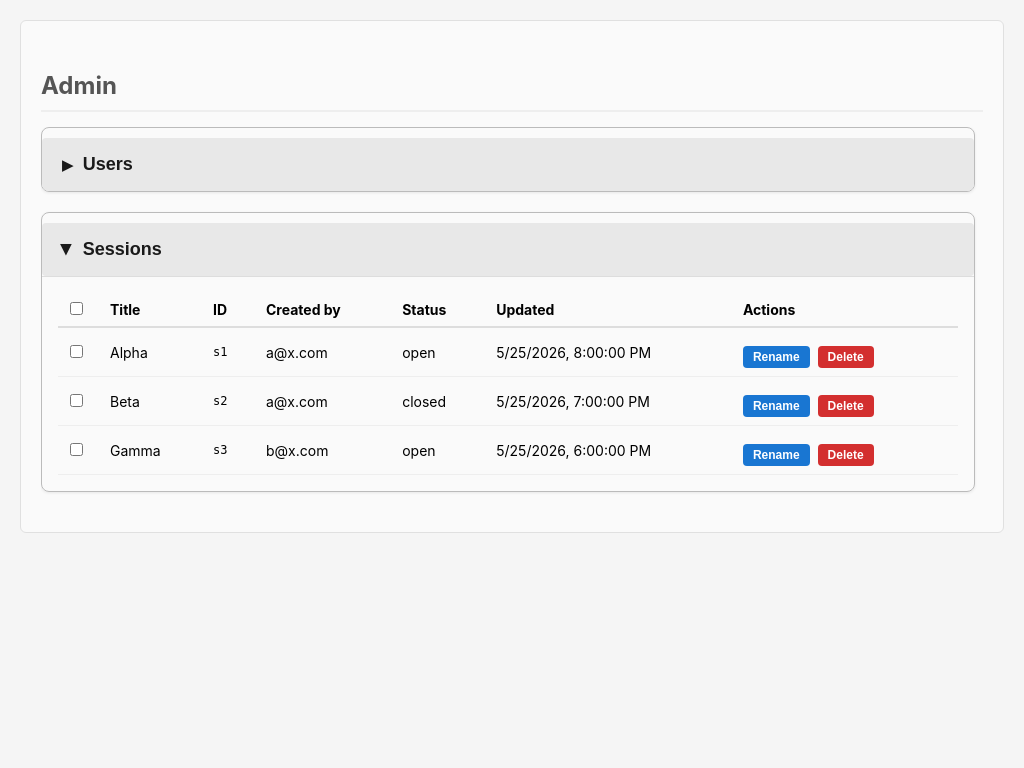
it: AdminUsers bulk session delete (SCRUM-583) › confirms, deletes selected sessions, removes rows and shows a success toast
This screenshot has width=1024, height=768.
Click the checkbox named "Select Alpha" at coordinates (76, 351), box x1=70 y1=344 x2=83 y2=358
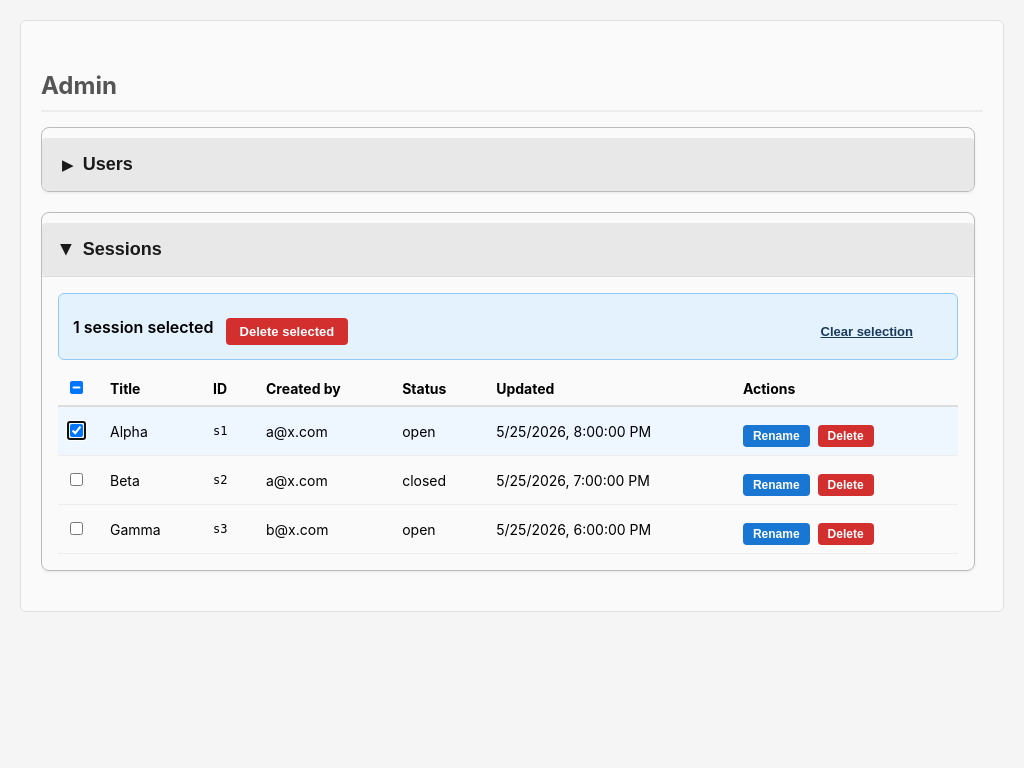
Click the checkbox named "Select Beta" at coordinates (76, 479), box x1=70 y1=472 x2=83 y2=486
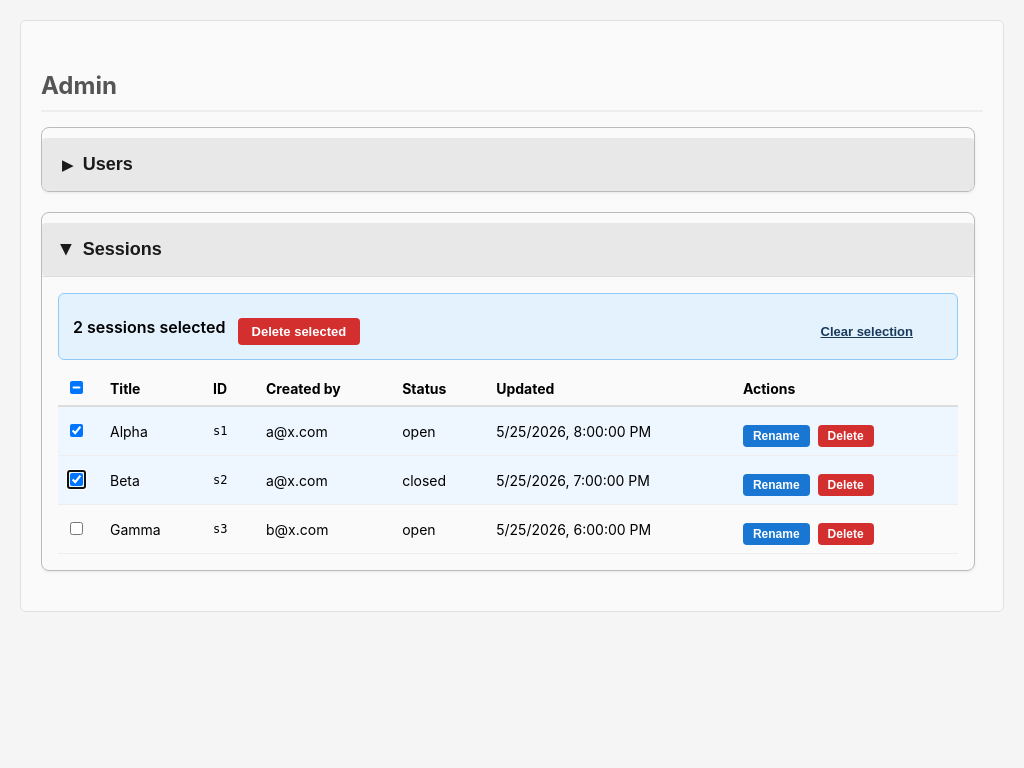
Click the button "Delete selected" at coordinates (299, 332), box x1=238 y1=318 x2=360 y2=345
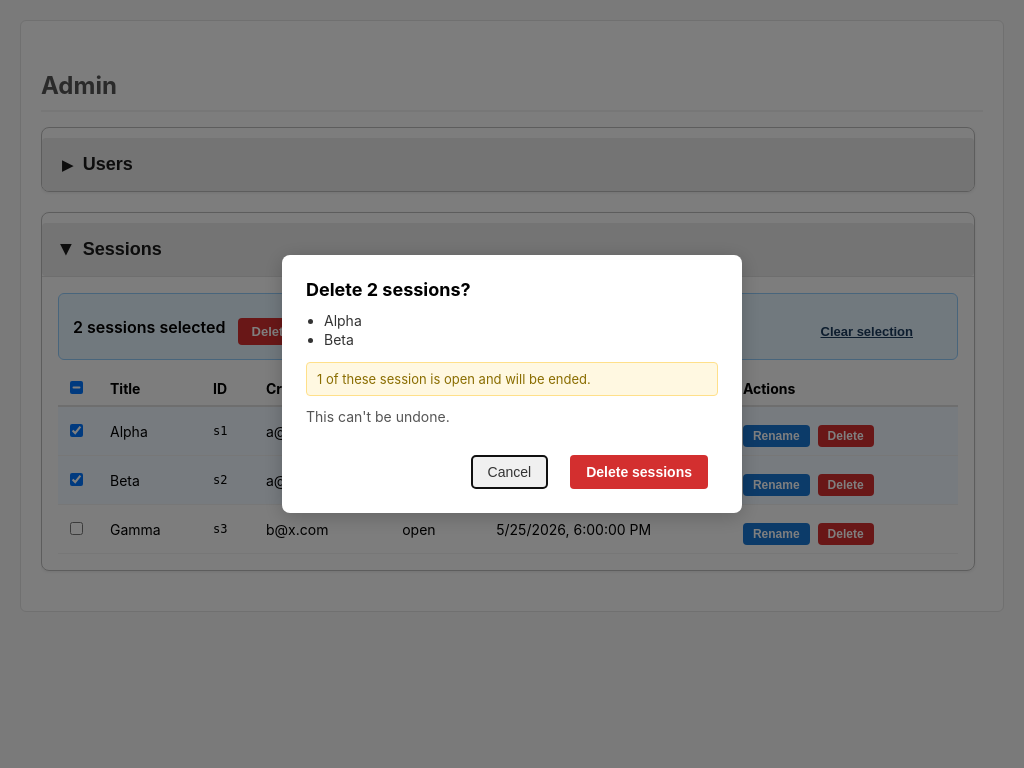
Expected: the heading "Delete 2 sessions?" is shown, x1=306 y1=279 x2=471 y2=300
Expected: the list item "Alpha" is shown, x1=324 y1=312 x2=362 y2=329
Expected: the text "1 of these session is open and will be ended." is shown, x1=306 y1=362 x2=718 y2=396
Click the button "Delete sessions" at coordinates (639, 472), box x1=570 y1=455 x2=708 y2=489
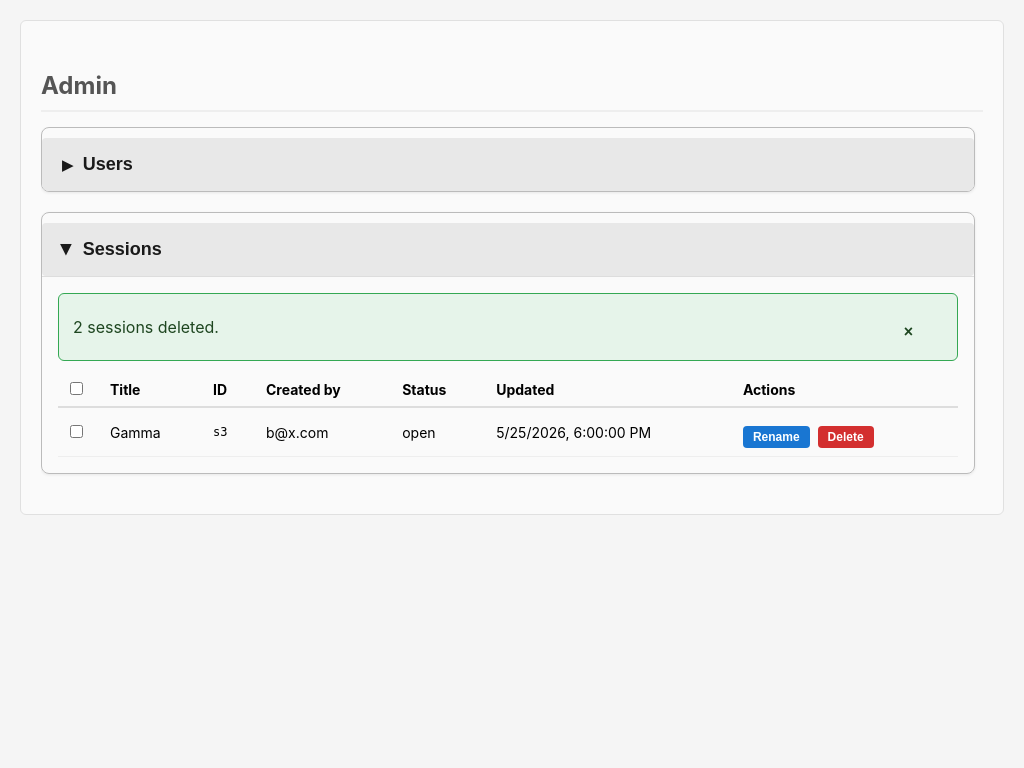
Expected: the message shows "2 sessions deleted.", x1=73 y1=317 x2=219 y2=337
Expected: the text "sessions selected" is gone
